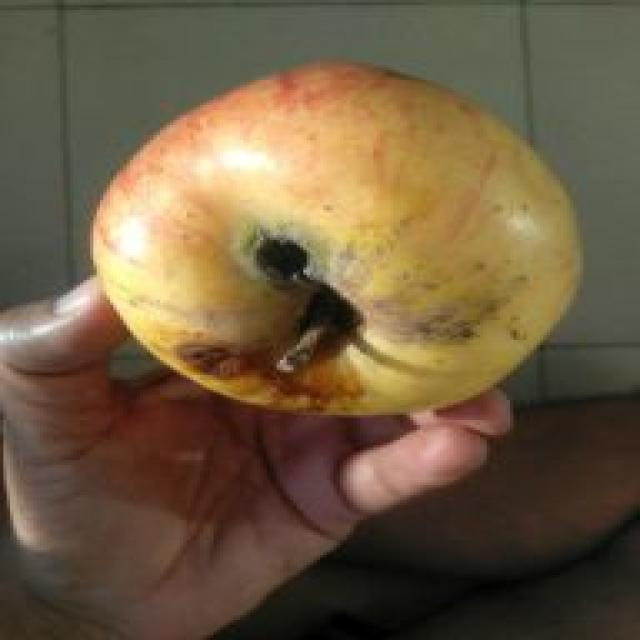Bad_Apple: (92, 62, 580, 414)
